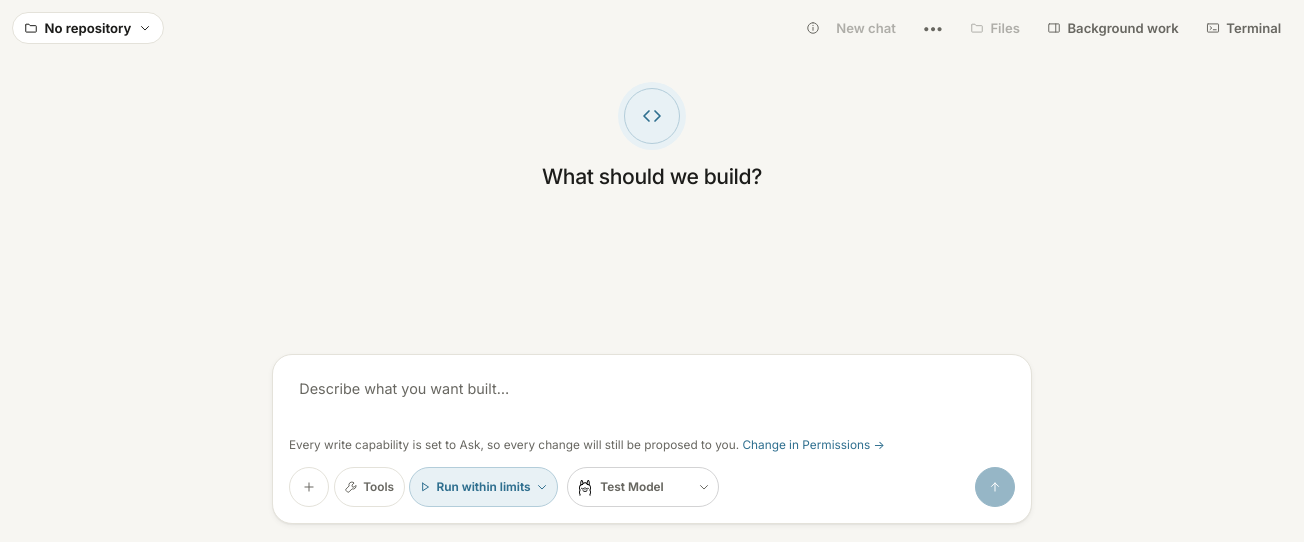
Scenario: Build's artifact zone › lets each header control answer about its own view, not the column
This screenshot has width=1304, height=542.
Click the button named "Add to this turn": (309, 487) top-left (289, 467), bottom-right (329, 507)
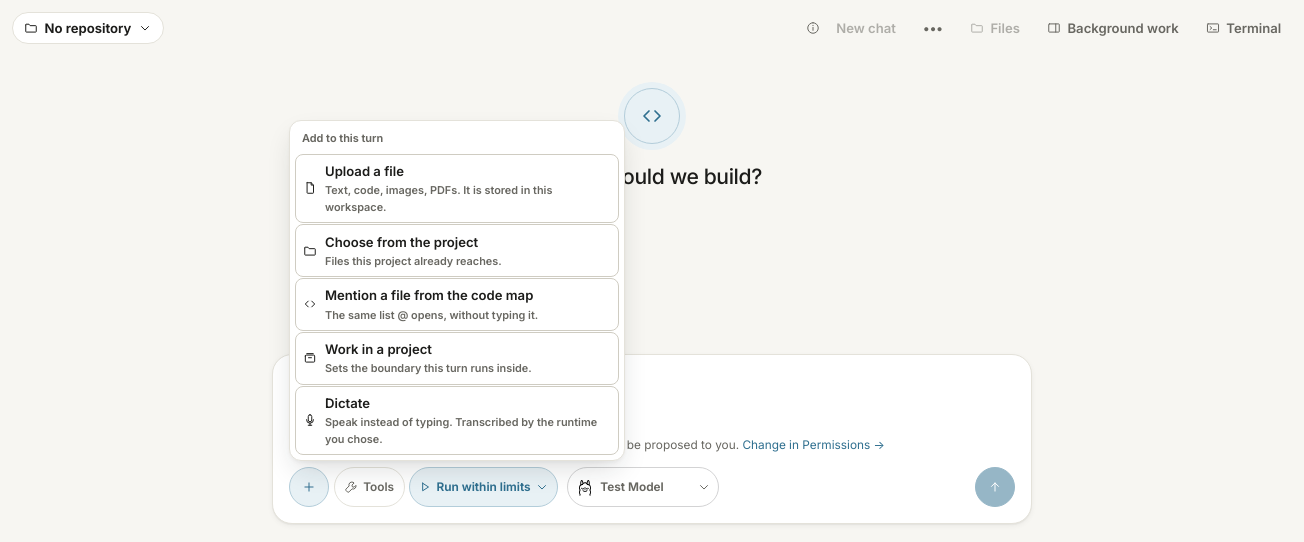
Click the menu item "Work in a project": (378, 349) top-left (295, 332), bottom-right (619, 385)
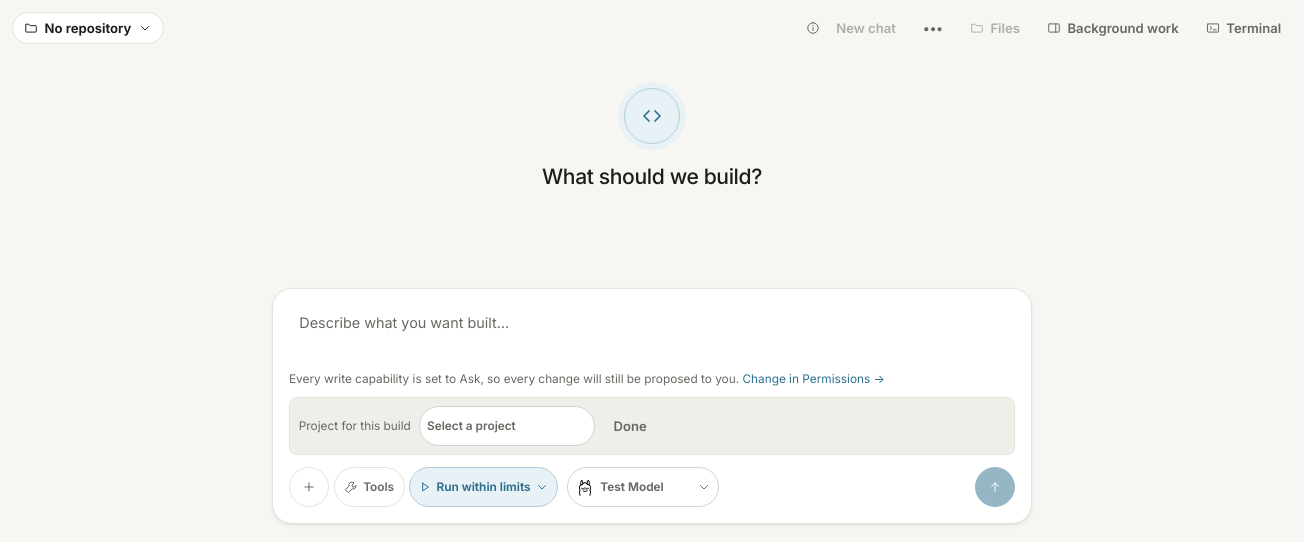
Select "Landing page" in the dropdown labelled "Project for this build": (507, 426) top-left (419, 406), bottom-right (595, 446)
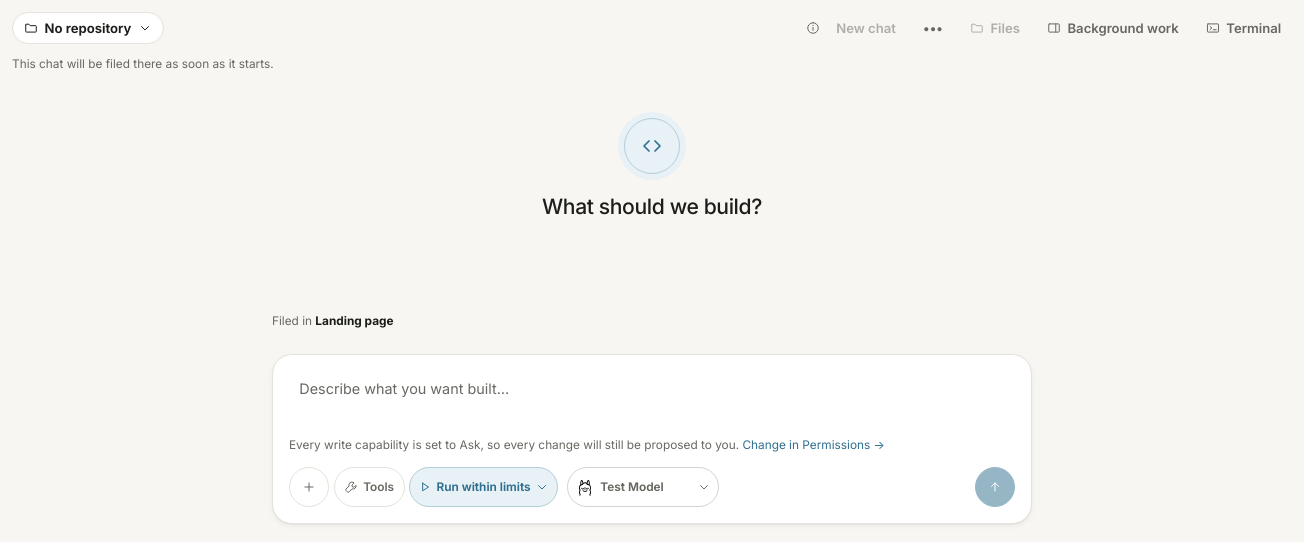
Click the button with aria-label "Show the governed terminal": (1244, 28) top-left (1195, 12), bottom-right (1292, 44)
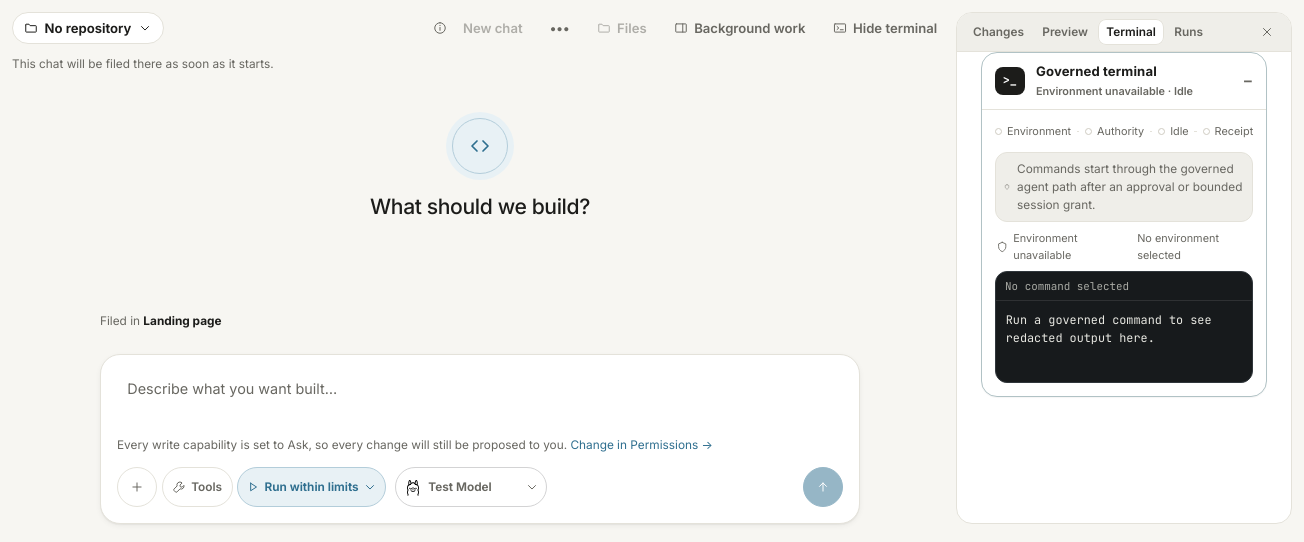
Click the button with aria-label "Show background work": (740, 28) top-left (663, 12), bottom-right (816, 44)
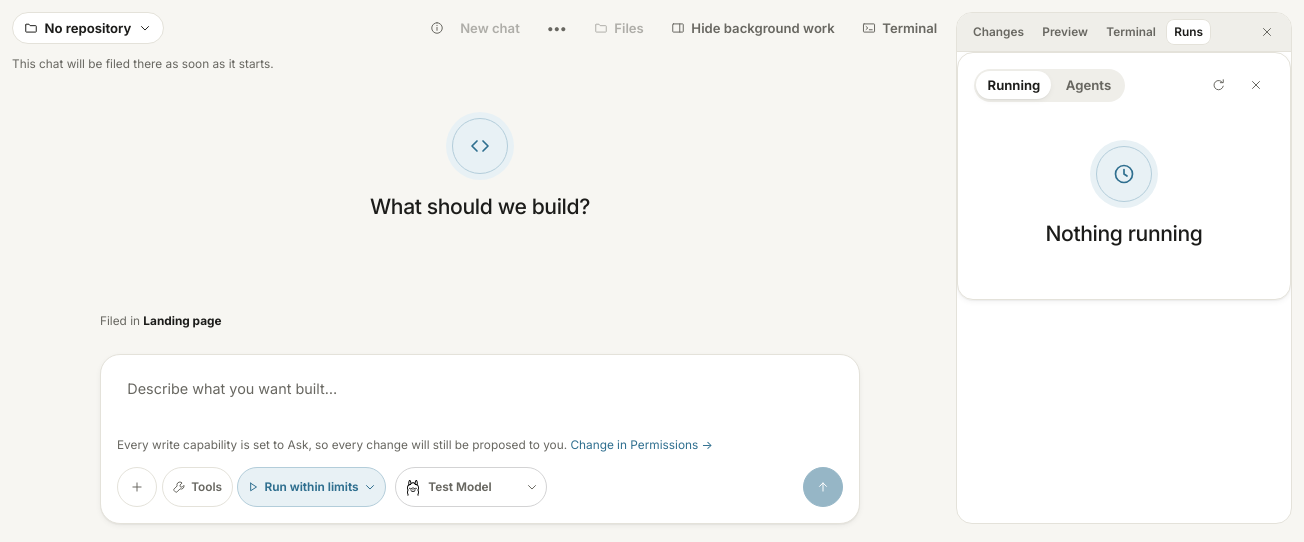
Expected: the button with aria-label "Show the governed terminal" is shown, top-left (851, 12), bottom-right (948, 44)
